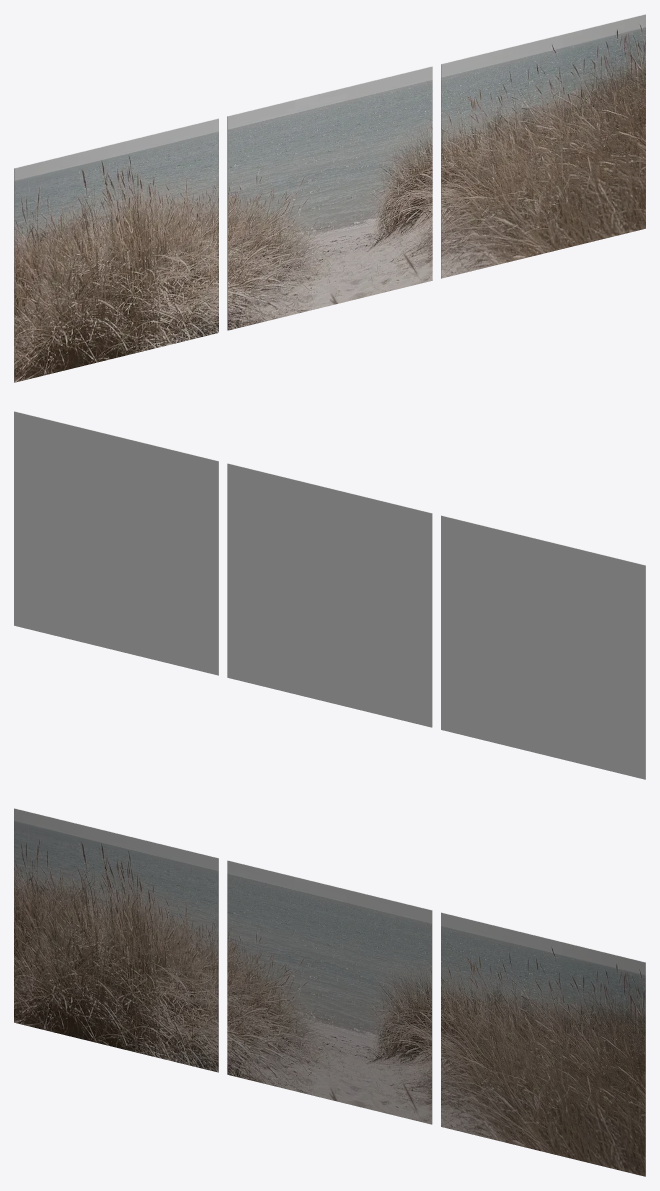
Rendered from BR-ART-B.glb.
3 views of the same model, one above another, from view 1: azimuth 30°, elevation 25°; view 2: azimuth 150°, elevation 25°; view 3: azimuth 330°, elevation 25° (orthographic).
Visible parts, largest first — view 1: a002, a, a001; view 2: b001, b002, b; view 3: a, a001, a002.
Boxes of the visible parts, bbox=[...] form: a002: bbox=[441, 14, 645, 278]; a: bbox=[14, 118, 218, 382]; a001: bbox=[228, 66, 432, 330]; b001: bbox=[227, 463, 432, 727]; b002: bbox=[14, 411, 218, 675]; b: bbox=[441, 515, 645, 779]; a: bbox=[14, 808, 218, 1072]; a001: bbox=[227, 860, 431, 1124]; a002: bbox=[441, 912, 645, 1176].
Bounding box in the file's own units: 1.73 × 0.56 × 0.002.
2 materials, 1 textured.
